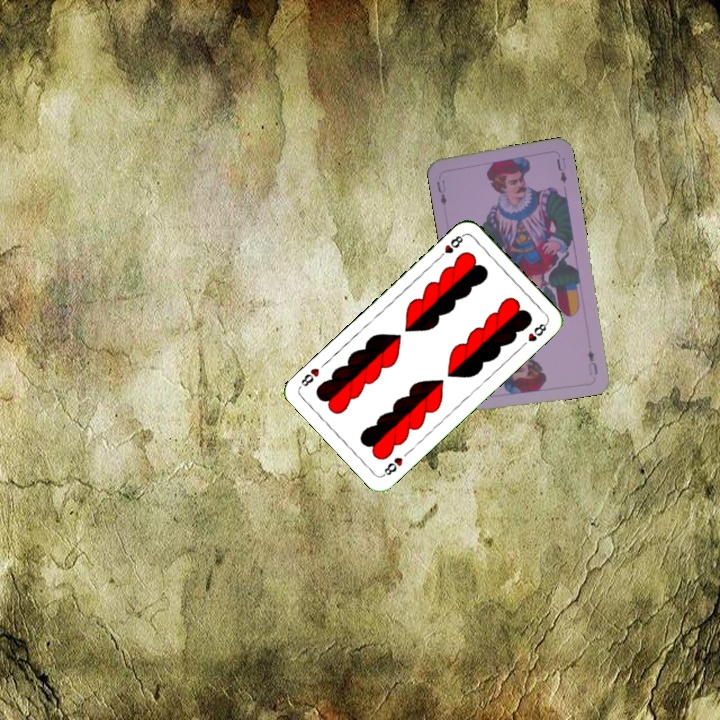EU: (433, 176, 449, 208), (584, 346, 600, 377)
H8: (434, 230, 467, 262), (379, 453, 405, 479)
